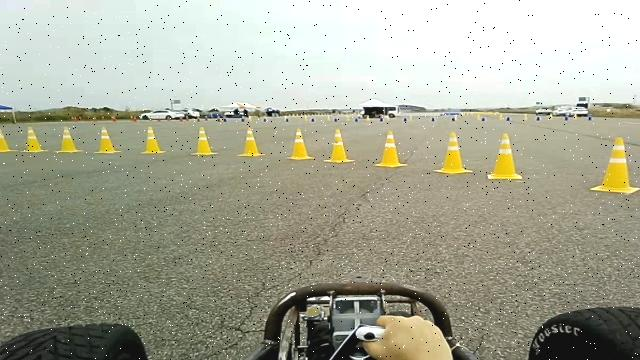yellow cone: (589, 136, 640, 194), (486, 133, 523, 180), (432, 131, 472, 174), (372, 130, 407, 168), (323, 128, 355, 163), (285, 128, 315, 160), (237, 126, 266, 157), (93, 125, 121, 154), (190, 126, 217, 155), (140, 126, 166, 154), (54, 126, 82, 152), (20, 126, 48, 152), (0, 126, 19, 153)
